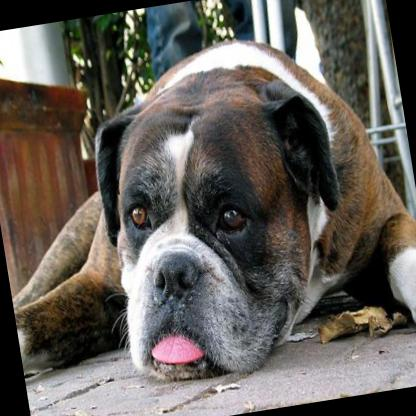boxer: (0, 12, 416, 411)
